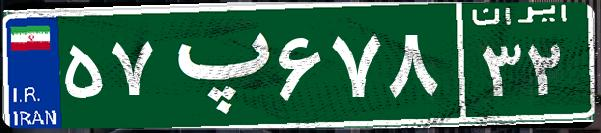2: (525, 38, 570, 115)
3: (475, 38, 525, 113)
5: (57, 26, 110, 107)
6: (273, 28, 330, 110)
7: (330, 28, 385, 110), (110, 28, 158, 105)
8: (385, 28, 445, 110)
پ: (158, 15, 273, 115)
